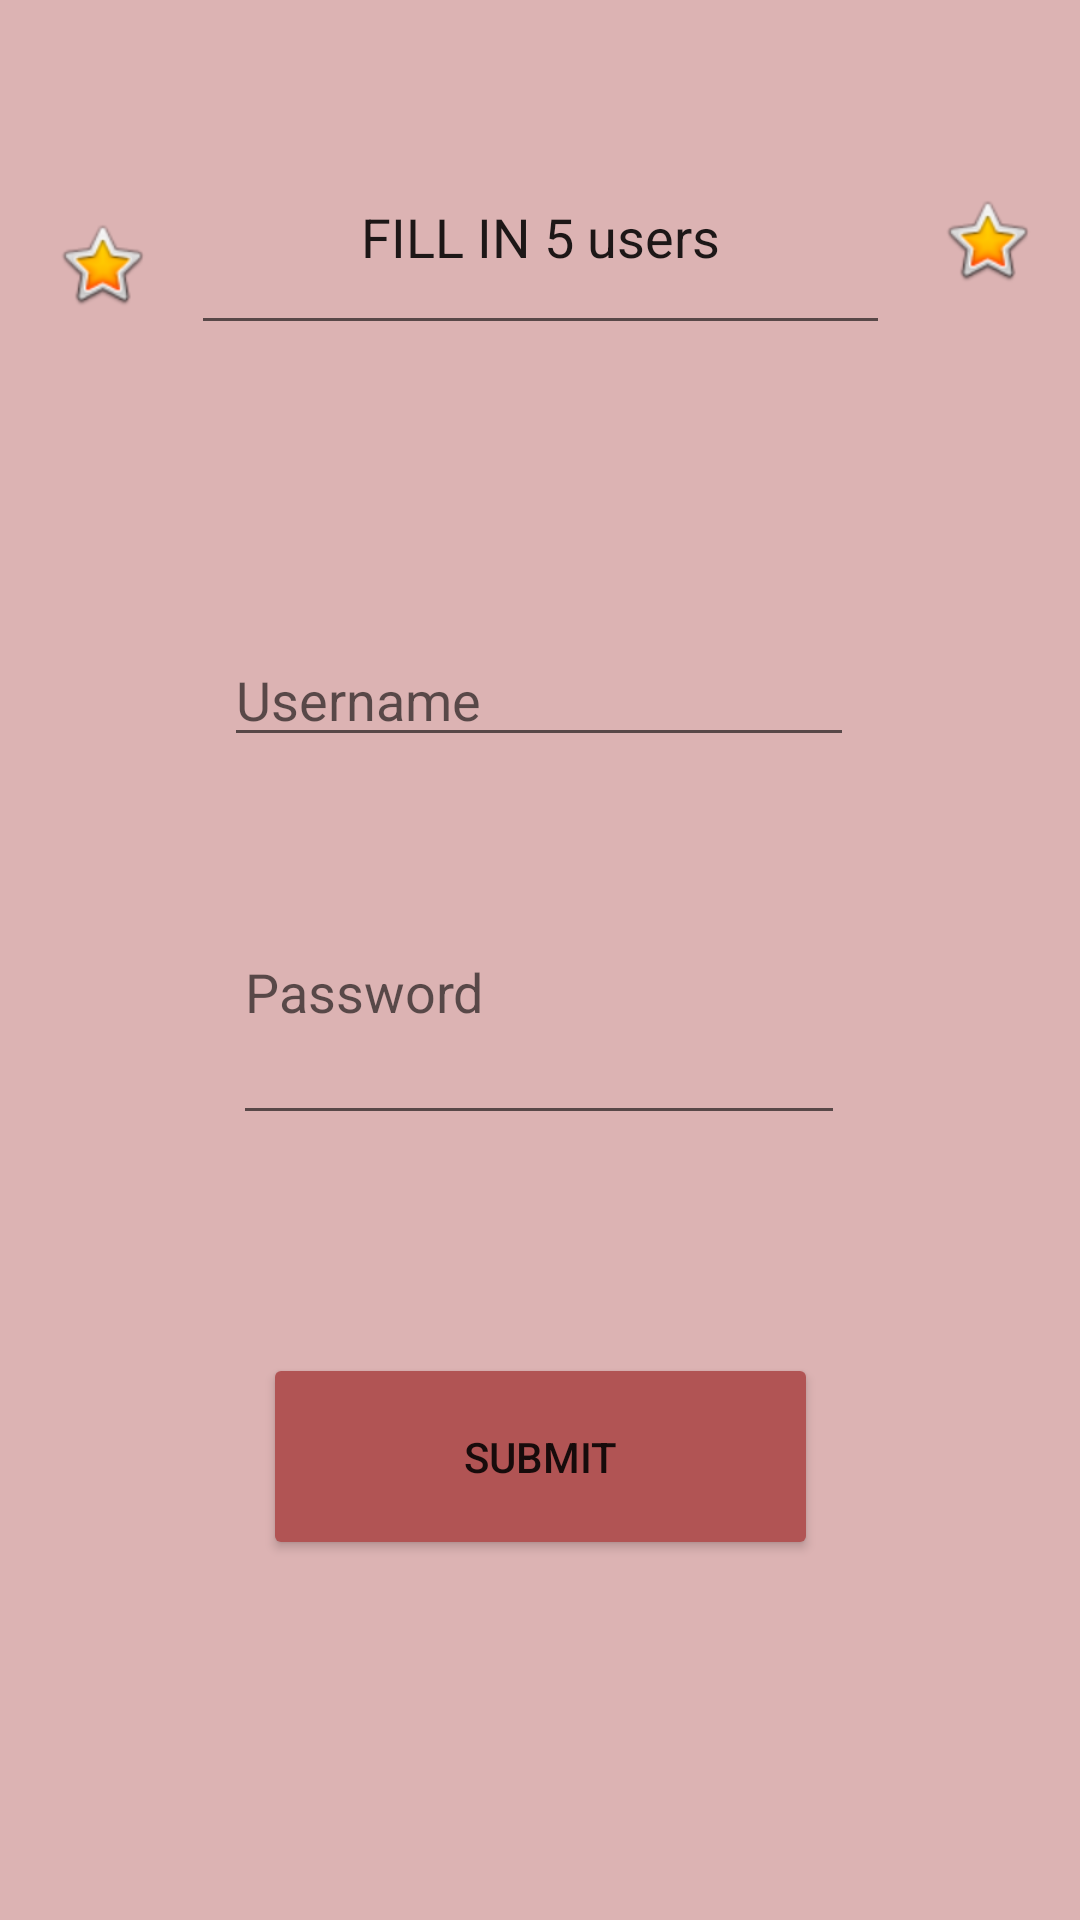

Where to tap for icons on this 1080px x 1920px app screen, as [x,y]:
star on: [988,241], [103,265]
